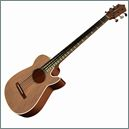guitar: (4, 3, 126, 118)
